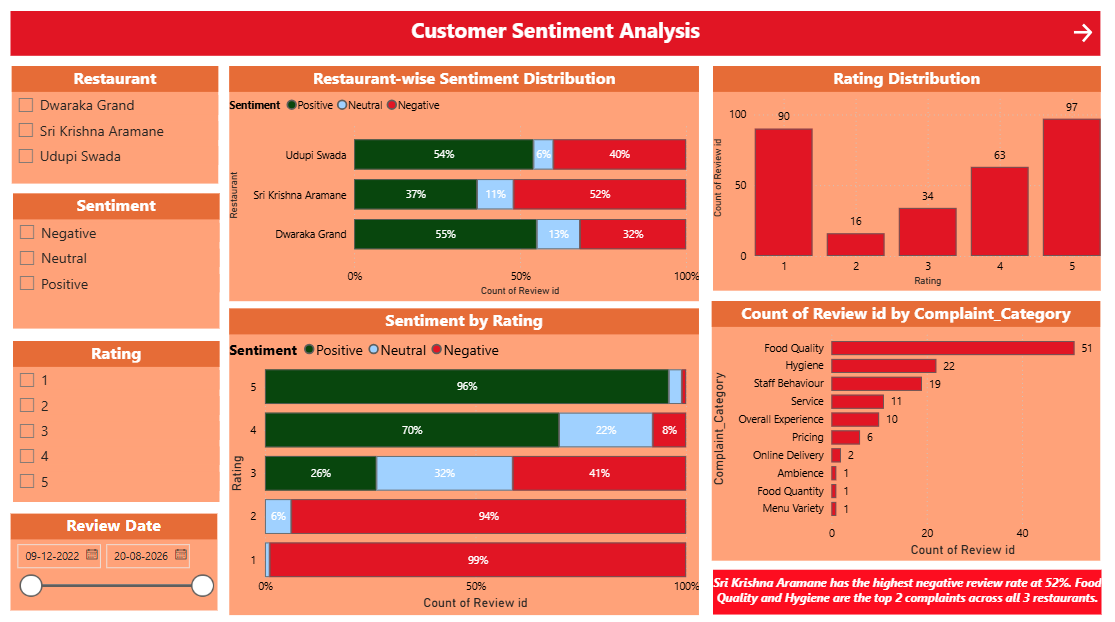

The page's visual inventory and layout, read from the dashboard file:
{"tool":"powerbi","page":{"name":"Page 2","canvas":[1280,720],"ordinal":1},"visuals":[{"type":"slicer","title":"Restaurant","fields":{"Values":["Review.Restaurant"]},"box":[15.7,80,235.7,134.3],"z":0},{"type":"clusteredColumnChart","title":"Rating Distribution","fields":{"Y":["Count(Review.Review id)"],"Category":["Review.Rating"]},"box":[817.1,80,442.9,257.1],"z":1000},{"type":"textbox","box":[14.3,17.1,1245.7,51.4],"z":2000},{"type":"hundredPercentStackedBarChart","title":"Restaurant-wise Sentiment Distribution","fields":{"Category":["Restaurant_GoogleRating.Restaurant"],"Y":["Count(Review.Review id)"],"Series":["Review.Sentiment"]},"box":[264.3,80,537.1,268.6],"z":3000},{"type":"actionButton","box":[1224.3,27.1,37.1,30],"z":4000},{"type":"hundredPercentStackedBarChart","title":"Sentiment by Rating","fields":{"Category":["Review.Rating"],"Y":["Count(Review.Review id)"],"Series":["Review.Sentiment"]},"box":[264.3,357.1,537.1,350],"z":5000},{"type":"slicer","title":"Sentiment","fields":{"Values":["Review.Sentiment"]},"box":[17.1,225.7,235.7,154.3],"z":6000},{"type":"slicer","title":"Rating","fields":{"Values":["Review.Rating"]},"box":[17.1,394.3,235.7,184.3],"z":7000},{"type":"clusteredBarChart","fields":{"Category":["Review.Complaint_Category"],"Y":["Count(Review.Review id)"]},"box":[815.7,348.6,444.3,297.1],"z":8000},{"type":"textbox","box":[817.1,655.7,444.3,51.4],"z":9000},{"type":"slicer","title":"Review Date","fields":{"Values":["Review.Review date"]},"box":[14.3,591.4,235.7,110],"z":10000}]}

Visuals, with their boxes in screenshot pixels (x1, y1, x2, y2), scaled from the page's 1280x720 canvas onto the 1115x622 screenshot:
"Restaurant" slicer: BBox(14, 69, 219, 185)
"Rating Distribution" clusteredColumnChart: BBox(712, 69, 1098, 291)
textbox: BBox(12, 15, 1098, 59)
"Restaurant-wise Sentiment Distribution" hundredPercentStackedBarChart: BBox(230, 69, 698, 301)
actionButton: BBox(1066, 23, 1099, 49)
"Sentiment by Rating" hundredPercentStackedBarChart: BBox(230, 308, 698, 611)
"Sentiment" slicer: BBox(15, 195, 220, 328)
"Rating" slicer: BBox(15, 341, 220, 500)
clusteredBarChart - Review.Complaint_Category x Count(Review.Review id): BBox(711, 301, 1098, 558)
textbox: BBox(712, 566, 1099, 611)
"Review Date" slicer: BBox(12, 511, 218, 606)
